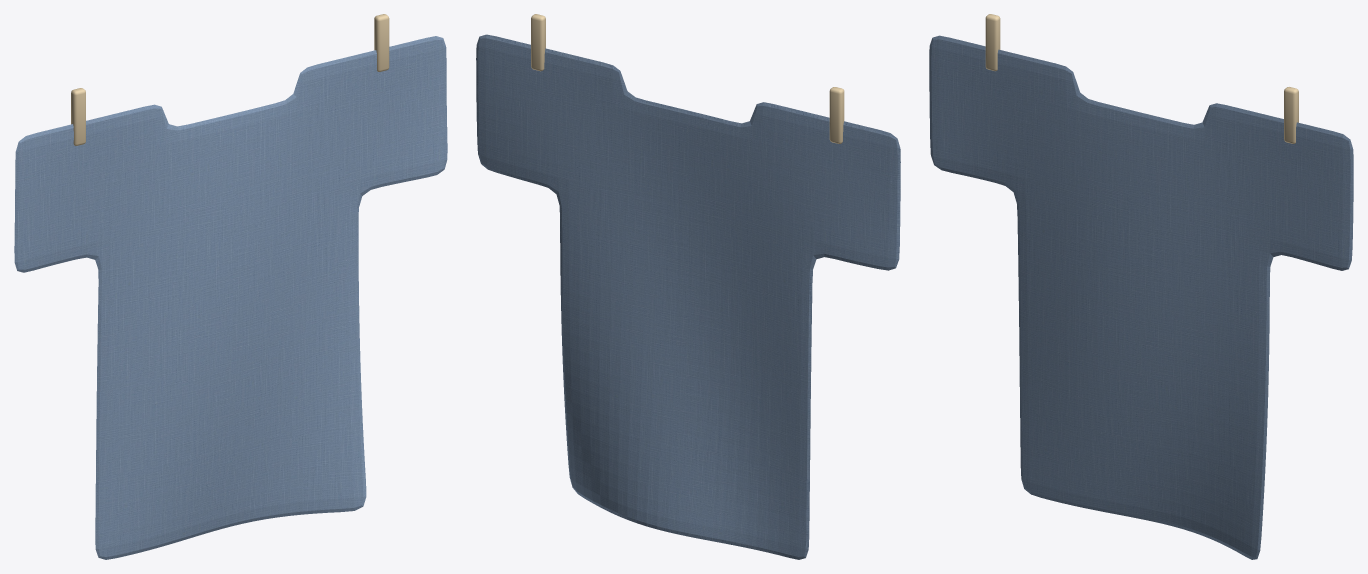
Rendered from cloth_shirt.glb.
The picture shows the model from 3 angles, left to right: view 1: azimuth 30°, elevation 25°; view 2: azimuth 150°, elevation 25°; view 3: azimuth 330°, elevation 25°; orthographic projection.
Visible parts, largest first — view 1: cloth_shirt; view 2: cloth_shirt; view 3: cloth_shirt.
Part boxes in pixels (x1=…): cloth_shirt: x1=14, y1=14, x2=447, y2=559; cloth_shirt: x1=476, y1=14, x2=900, y2=559; cloth_shirt: x1=929, y1=14, x2=1353, y2=559.
Bounding box in the file's own units: 0.6173 × 0.6611 × 0.0442.
Materials: 2 (1 with a texture image).
